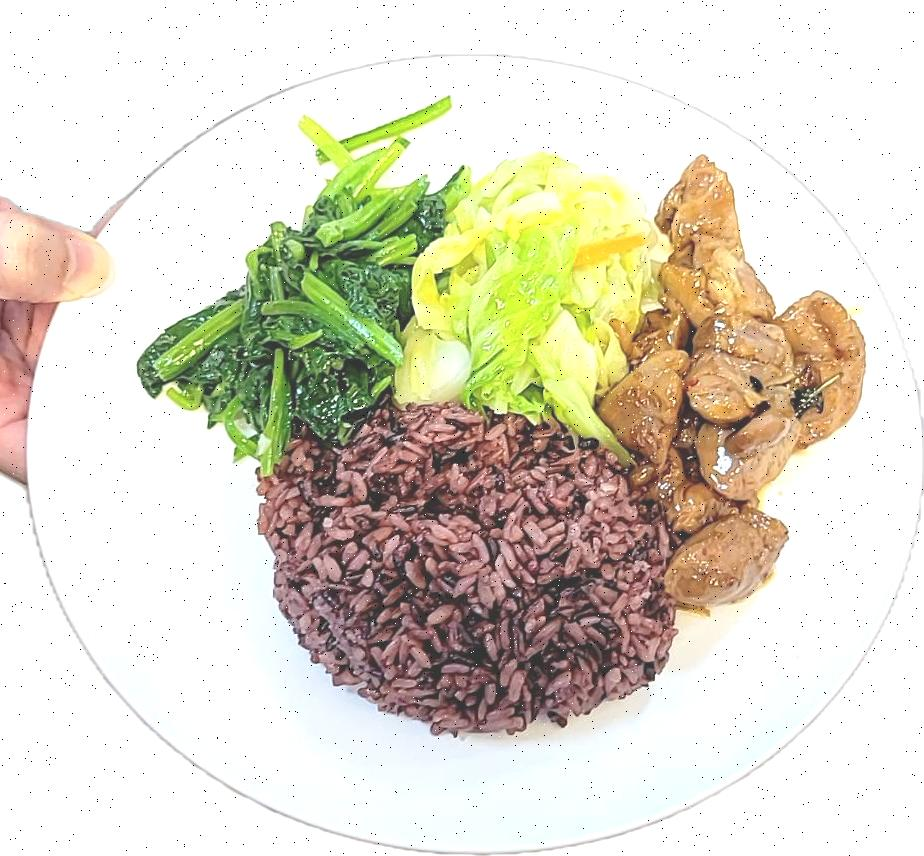big fried chicken leg: (17, 38, 924, 856)
braised fish: (270, 404, 677, 734)
braised fish fillet: (128, 87, 474, 456), (390, 150, 661, 426)
braised pork: (609, 150, 863, 610)
